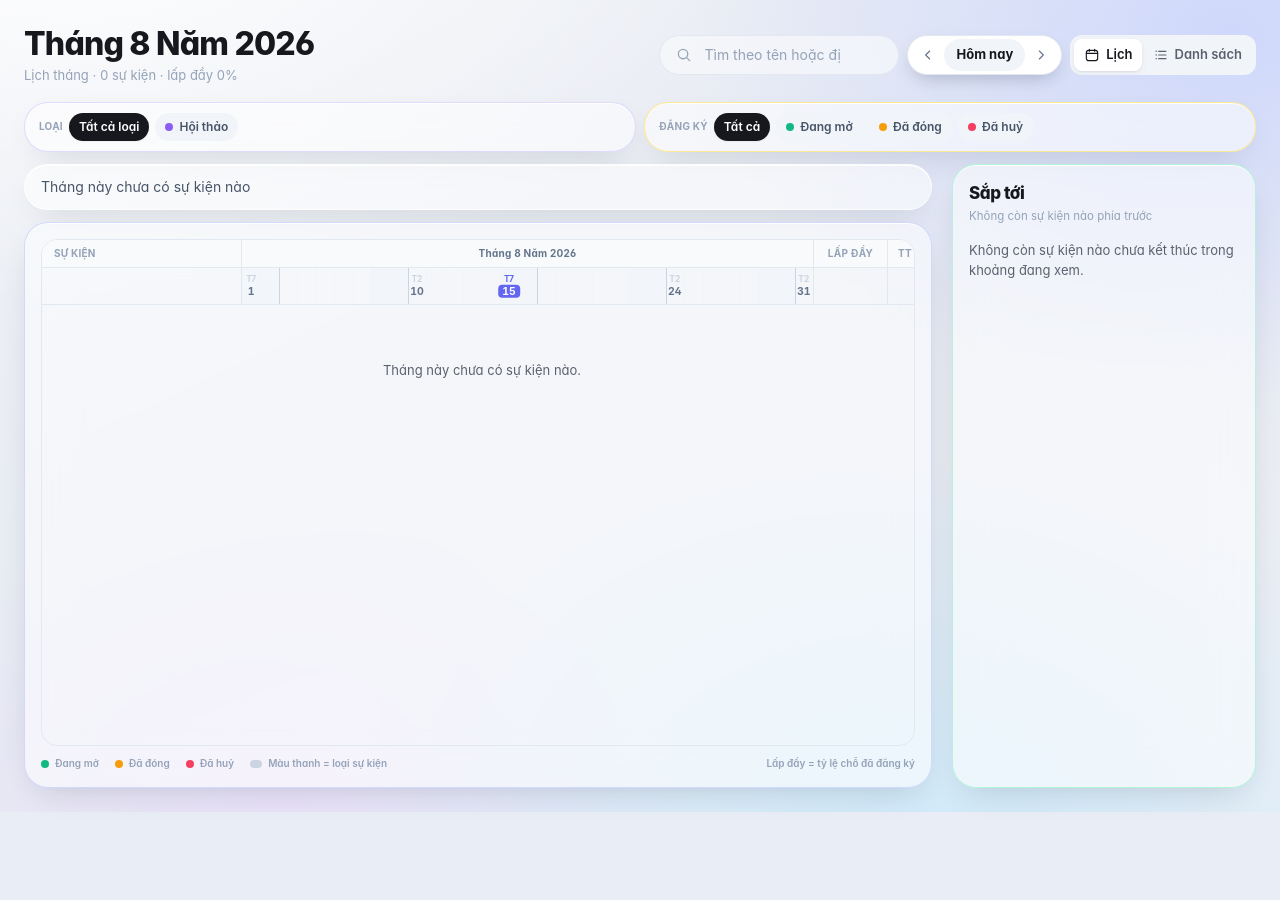
Test: EventListPage — chế độ lịch › chuyển sang chế độ danh sách bằng nút gạt và gọi API phân trang lại
The width and height of the screenshot is (1280, 900).
Click the button "Danh sách" at (1197, 55), box x1=1142 y1=39 x2=1252 y2=71
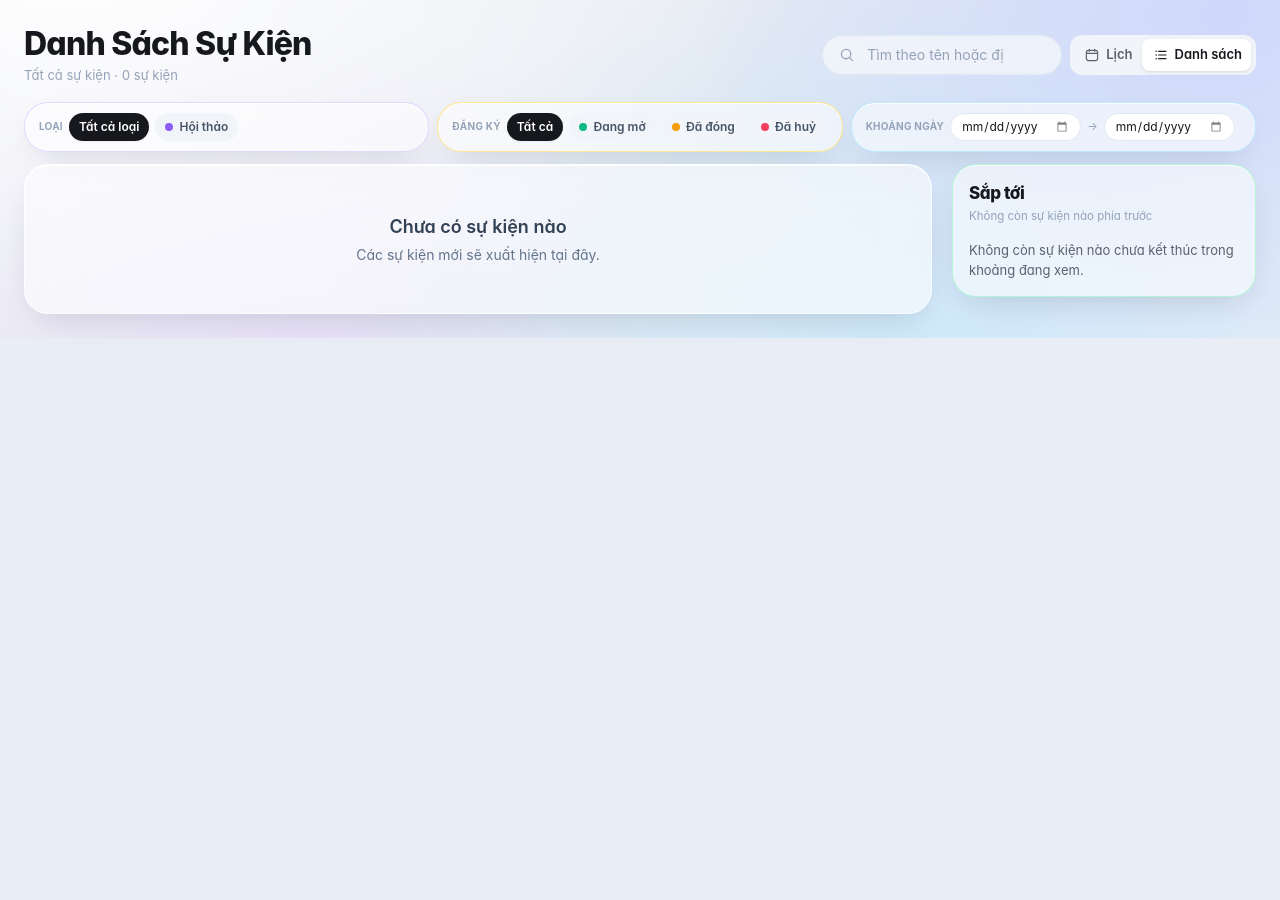
Check: the heading "Danh sách sự kiện" is shown, box x1=24 y1=24 x2=312 y2=63
